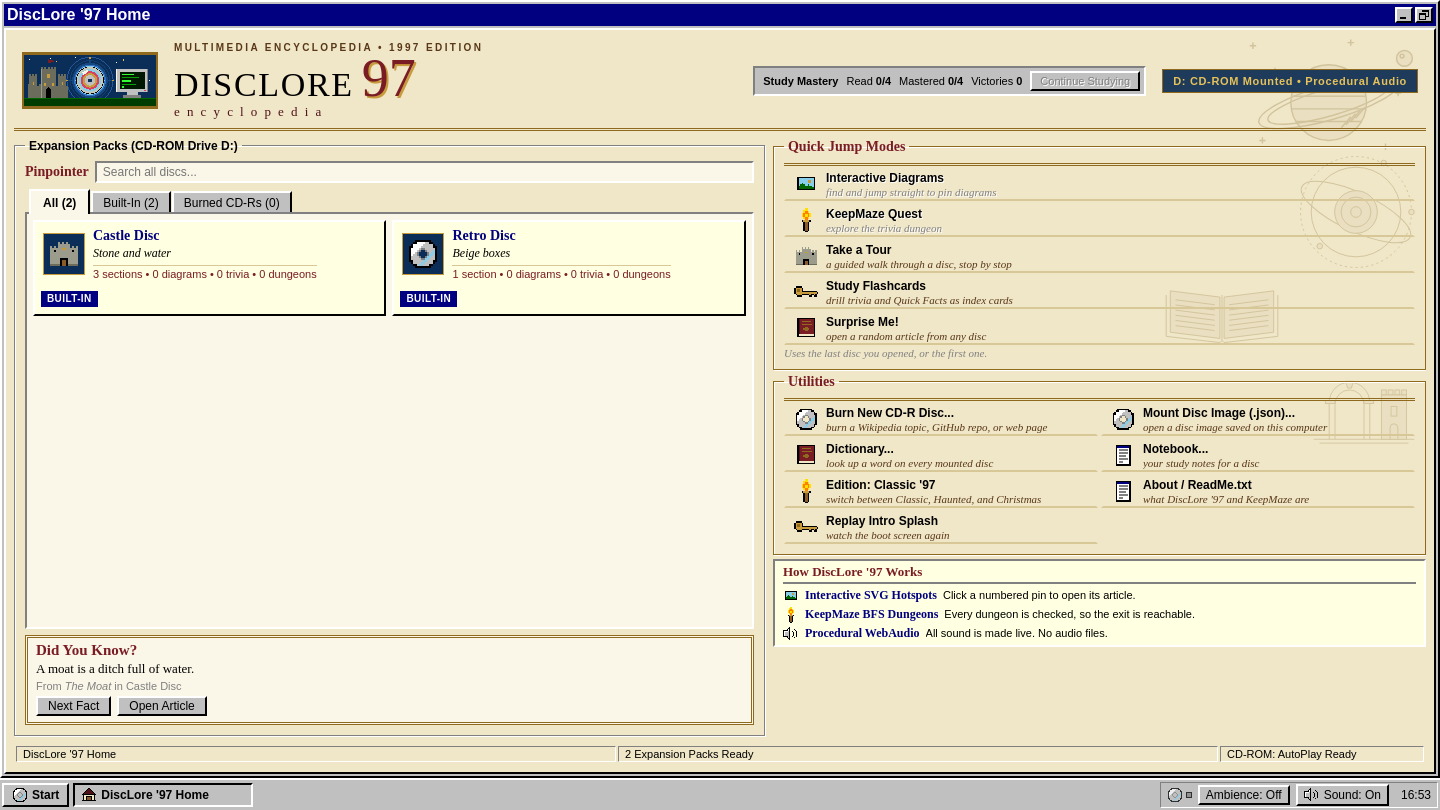
Test: Dictionary › opens a matching article in its own disc and closes
The width and height of the screenshot is (1440, 810).
Step 1. Click the text "Castle Disc" → click(126, 236), box x1=93 y1=228 x2=160 y2=244
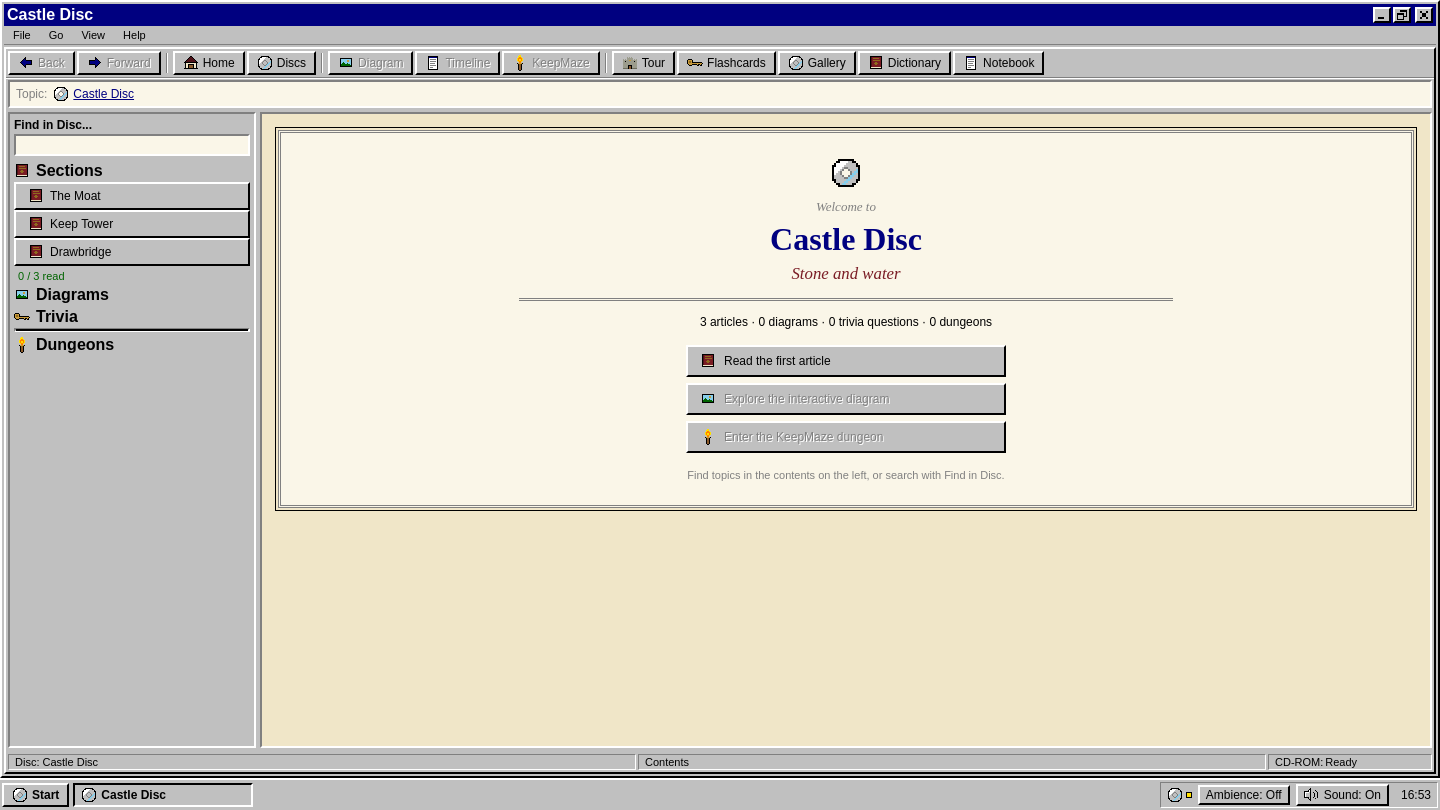
Step 2. Click the button "Dictionary" → click(904, 63), box x1=858 y1=51 x2=951 y2=75
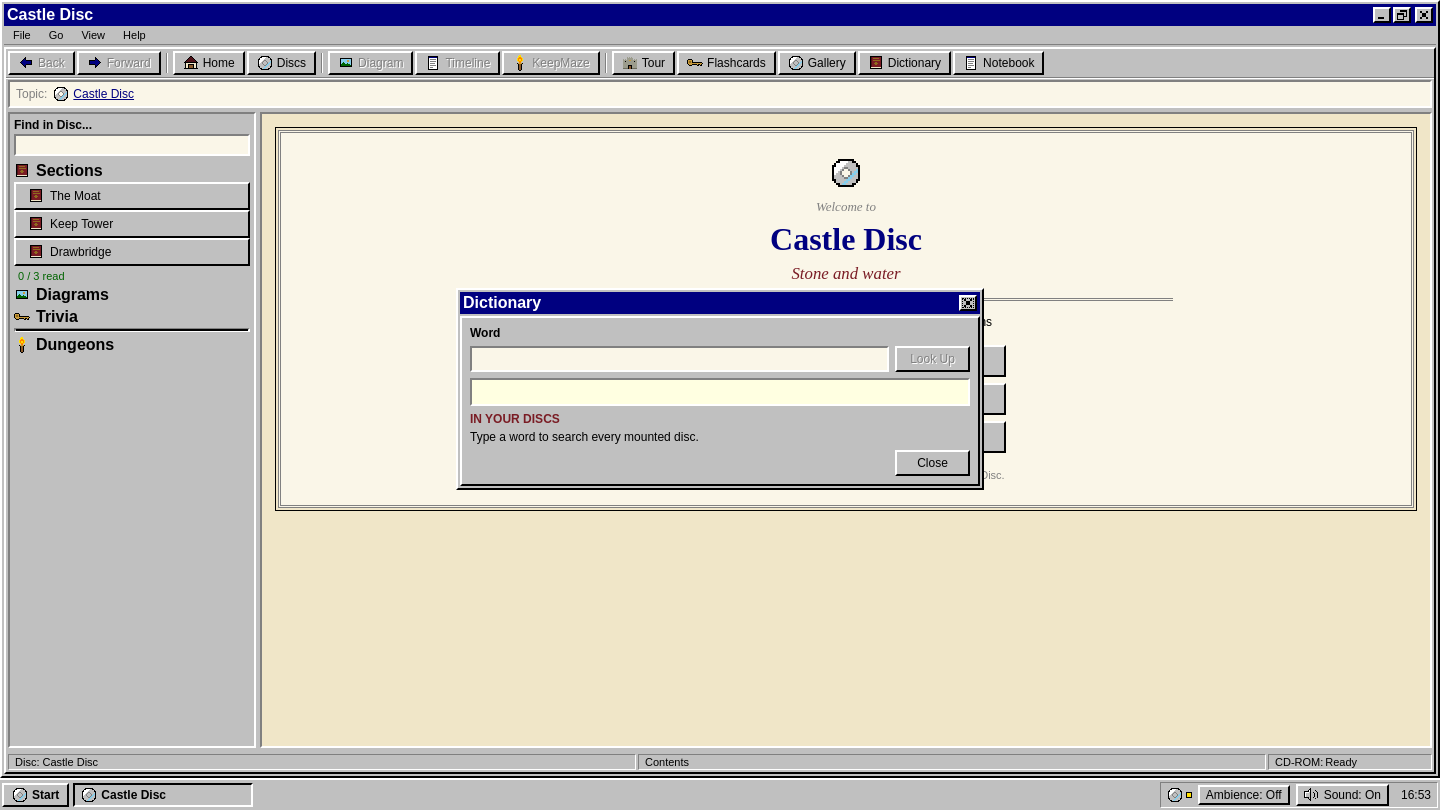
Step 3. Type "moat" into the field labelled "Word" → (680, 359), box x1=470 y1=346 x2=889 y2=372
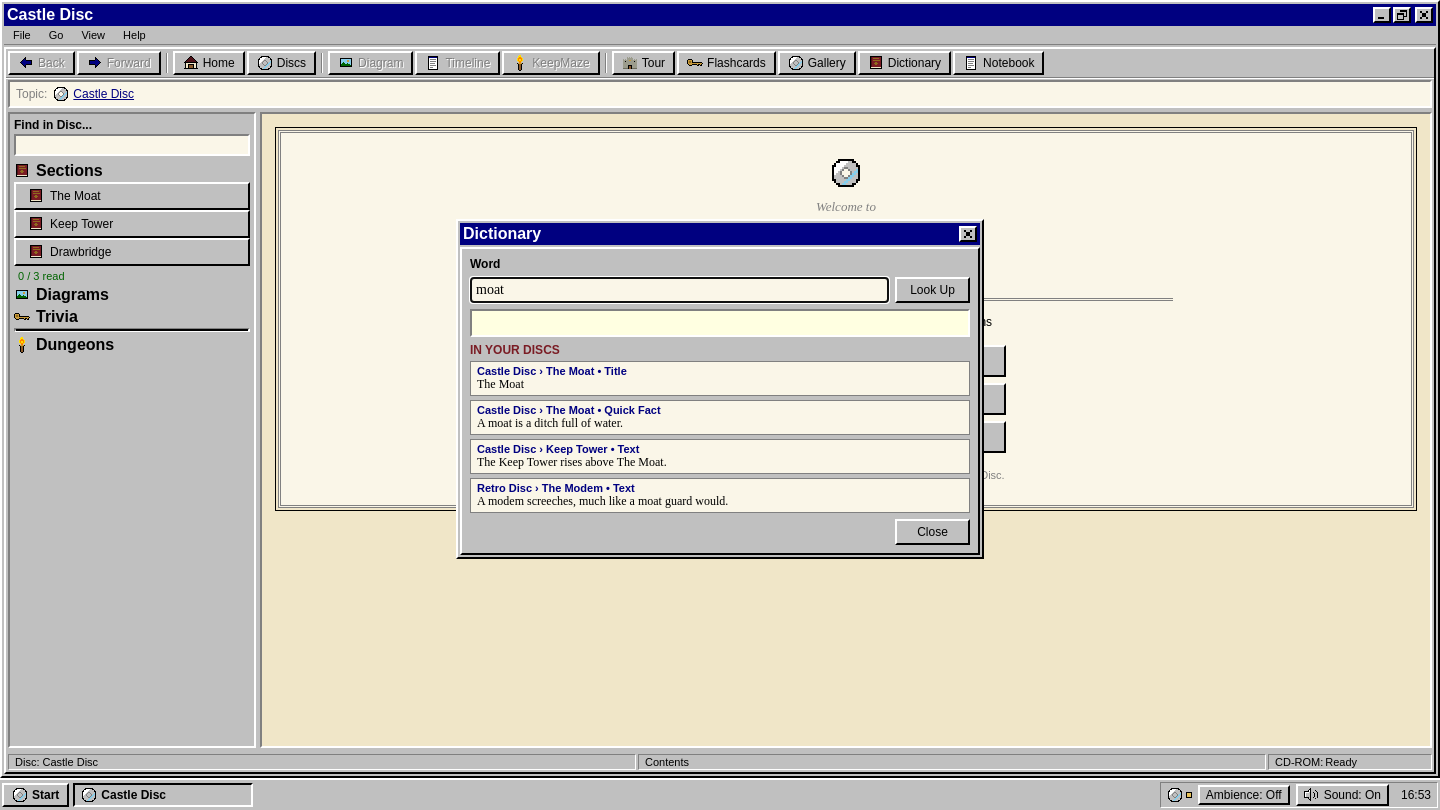
Step 4. Click the button that starts with "Retro Disc" → click(720, 496), box x1=470 y1=478 x2=970 y2=513
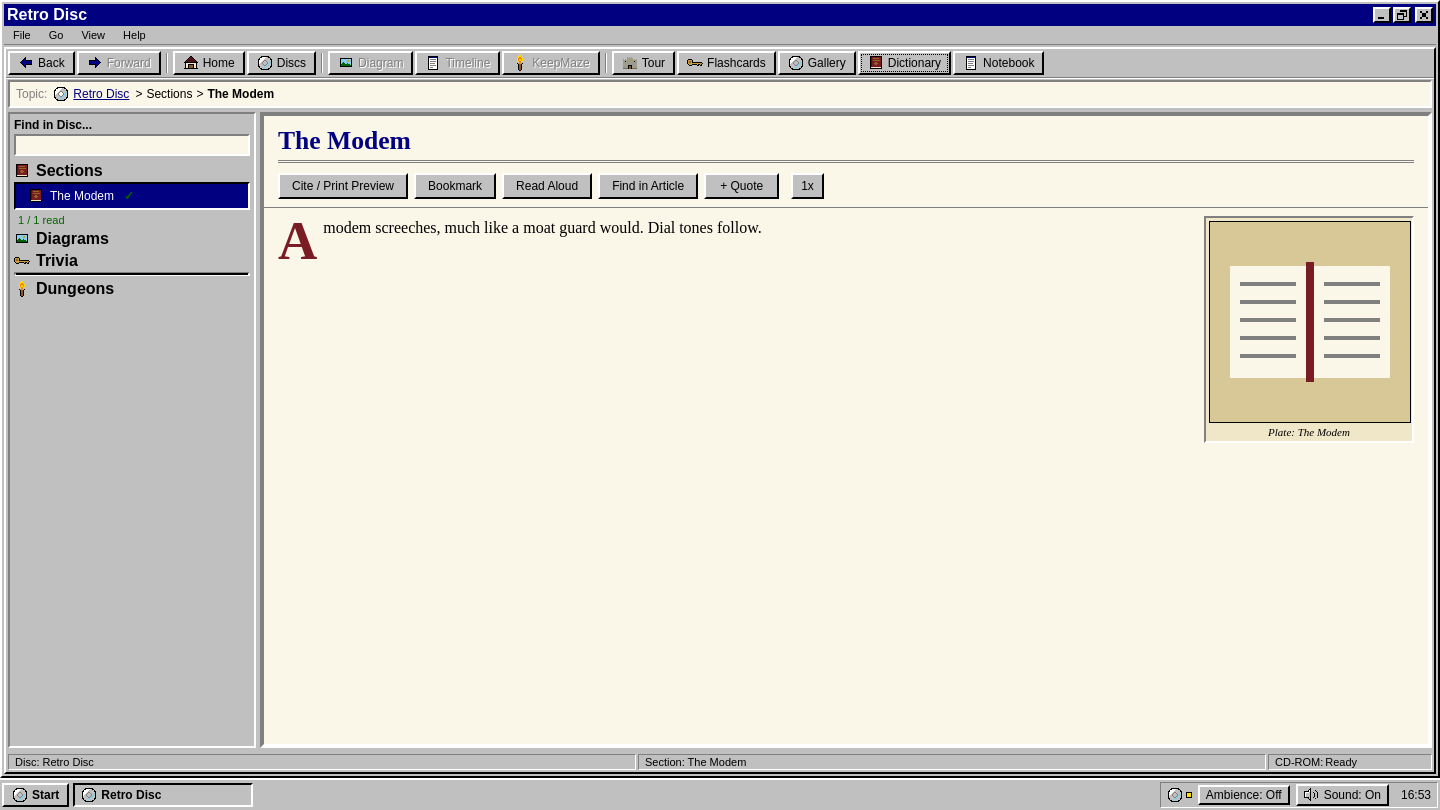
Expected: the heading "The Modem" is shown, x1=278 y1=126 x2=1414 y2=163
